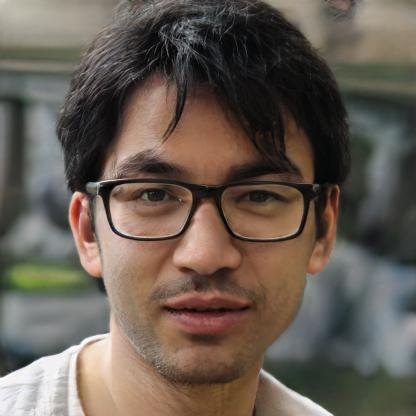glasses: (100, 173, 316, 247)
